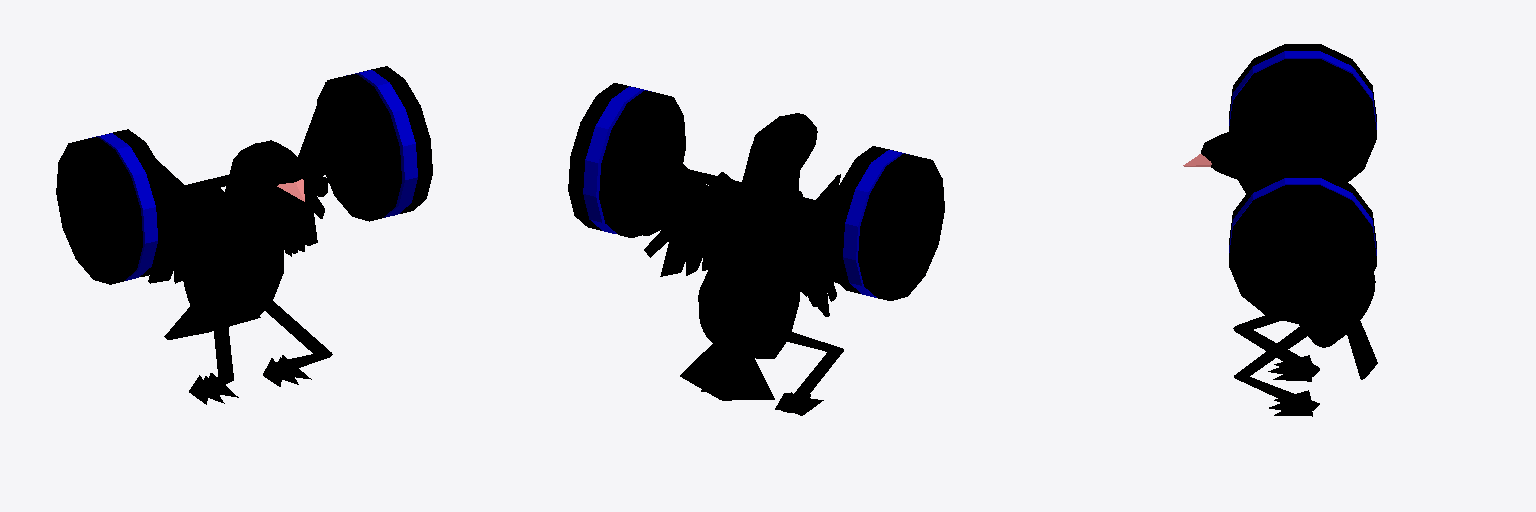
The picture shows the model from 3 angles: view 1: azimuth 30°, elevation 25°; view 2: azimuth 150°, elevation 25°; view 3: azimuth 270°, elevation 25°; orthographic projection.
Visible parts, largest first — view 1: model_barbellsquat_crow02:group14 model_barbellsquat_crow02:past, model_barbellsquat_crow02:group12 model_barbellsquat_crow02:pSph, model_barbellsquat_crow02:group16 model_barbellsquat_crow02:past, model_barbellsquat_crow02:group15 model_barbellsquat_crow02:pCub, model_barbellsquat_crow02:pCylinder1 model_barbellsquat_crow02:p; view 2: model_barbellsquat_crow02:group12 model_barbellsquat_crow02:pSph, model_barbellsquat_crow02:group14 model_barbellsquat_crow02:past, model_barbellsquat_crow02:group15 model_barbellsquat_crow02:pCub, model_barbellsquat_crow02:group16 model_barbellsquat_crow02:past, model_barbellsquat_crow02:pCylinder1 model_barbellsquat_crow02:p; view 3: model_barbellsquat_crow02:group16 model_barbellsquat_crow02:past, model_barbellsquat_crow02:group14 model_barbellsquat_crow02:past, model_barbellsquat_crow02:group12 model_barbellsquat_crow02:pSph, model_barbellsquat_crow02:pCylinder1 model_barbellsquat_crow02:p, model_barbellsquat_crow02:group15 model_barbellsquat_crow02:pCub.
Part boxes in pixels (left/top/right/bottom): model_barbellsquat_crow02:group14 model_barbellsquat_crow02:past: left=75, top=70, right=417, bottom=280; model_barbellsquat_crow02:group12 model_barbellsquat_crow02:pSph: left=164, top=140, right=305, bottom=339; model_barbellsquat_crow02:group16 model_barbellsquat_crow02:past: left=56, top=66, right=432, bottom=284; model_barbellsquat_crow02:group15 model_barbellsquat_crow02:pCub: left=148, top=82, right=332, bottom=283; model_barbellsquat_crow02:pCylinder1 model_barbellsquat_crow02:p: left=200, top=300, right=332, bottom=390; model_barbellsquat_crow02:group12 model_barbellsquat_crow02:pSph: left=680, top=113, right=817, bottom=400; model_barbellsquat_crow02:group14 model_barbellsquat_crow02:past: left=583, top=86, right=927, bottom=297; model_barbellsquat_crow02:group15 model_barbellsquat_crow02:pCub: left=629, top=125, right=840, bottom=316; model_barbellsquat_crow02:group16 model_barbellsquat_crow02:past: left=568, top=83, right=944, bottom=300; model_barbellsquat_crow02:pCylinder1 model_barbellsquat_crow02:p: left=781, top=332, right=843, bottom=412; model_barbellsquat_crow02:group16 model_barbellsquat_crow02:past: left=1229, top=44, right=1376, bottom=324; model_barbellsquat_crow02:group14 model_barbellsquat_crow02:past: left=1229, top=51, right=1376, bottom=270; model_barbellsquat_crow02:group12 model_barbellsquat_crow02:pSph: left=1201, top=130, right=1377, bottom=379; model_barbellsquat_crow02:pCylinder1 model_barbellsquat_crow02:p: left=1233, top=315, right=1319, bottom=410; model_barbellsquat_crow02:group15 model_barbellsquat_crow02:pCub: left=1305, top=80, right=1345, bottom=320.
Bounding box in the file's own units: 6.27 × 4.93 × 3.17.
5 materials, 1 textured.